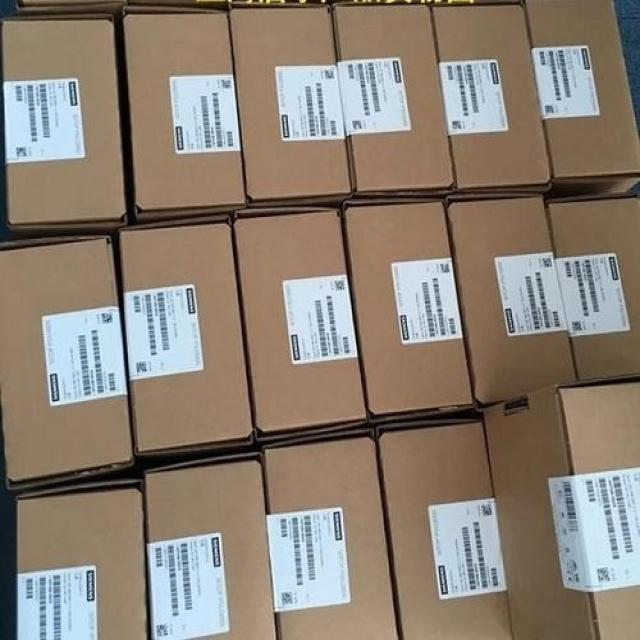box: (479, 379, 639, 639), (119, 217, 255, 459), (232, 210, 368, 444), (373, 421, 511, 638), (343, 199, 475, 420), (442, 193, 576, 407), (262, 432, 399, 637), (2, 17, 127, 239), (120, 9, 245, 221), (228, 5, 352, 207), (330, 4, 456, 195), (146, 455, 276, 638), (429, 5, 554, 195), (524, 2, 639, 199), (17, 481, 148, 639), (546, 195, 639, 380)
